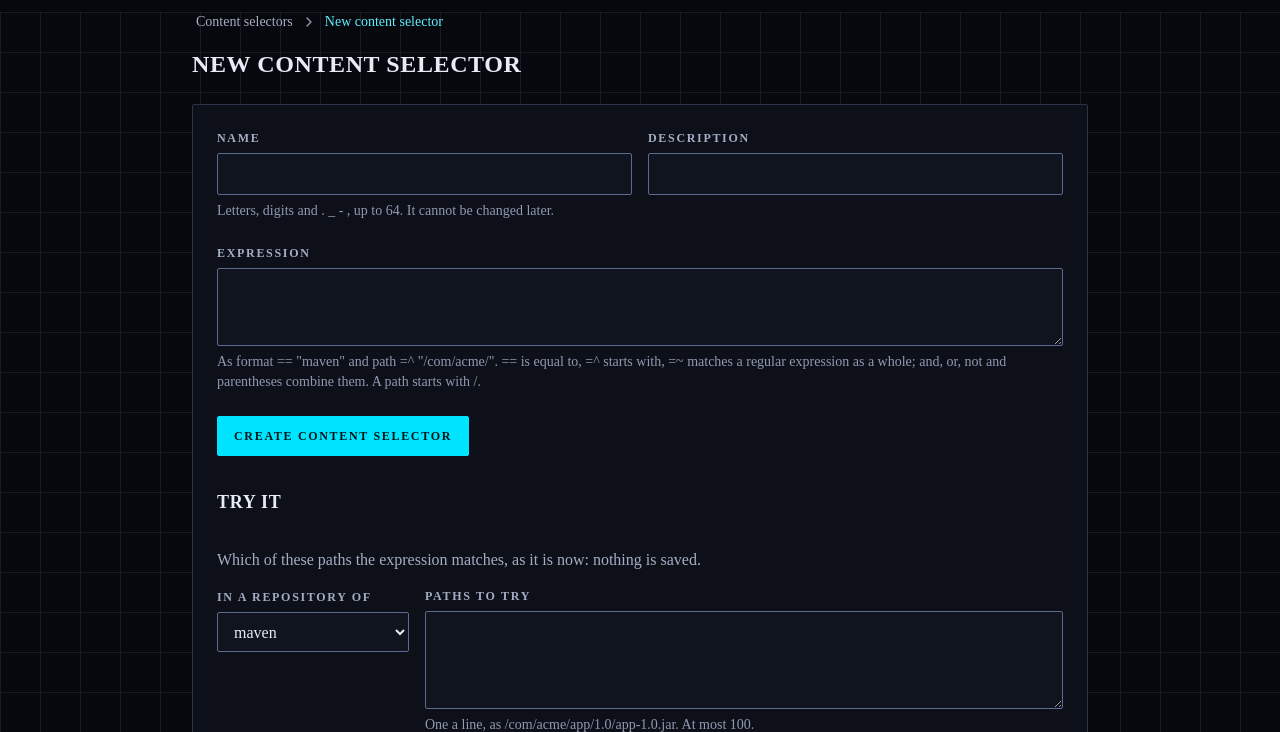
Test: the content selectors (spec 10) › are made with a name, a description and an expression
Type "acme" into the field labelled "Name" at (424, 174), box [217,153,632,195]
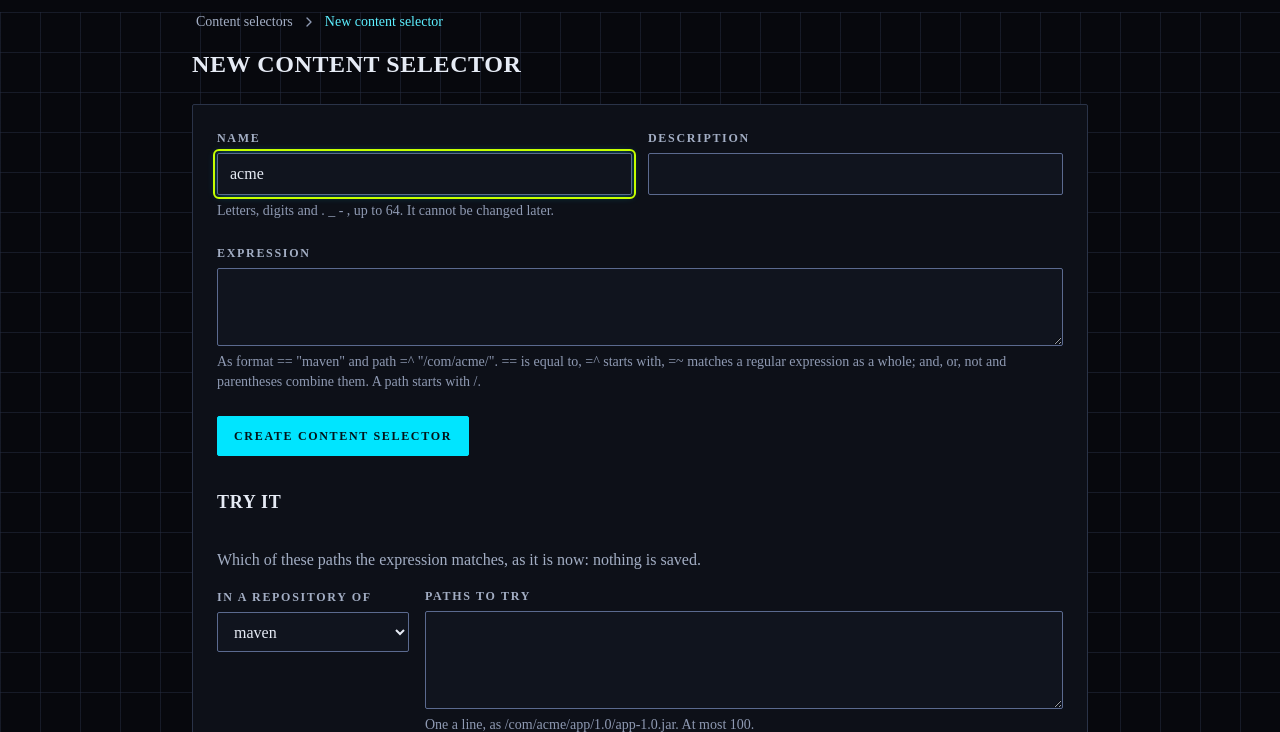
Type "Acme's own" into the field labelled "Description" at (856, 174), box [648,153,1063,195]
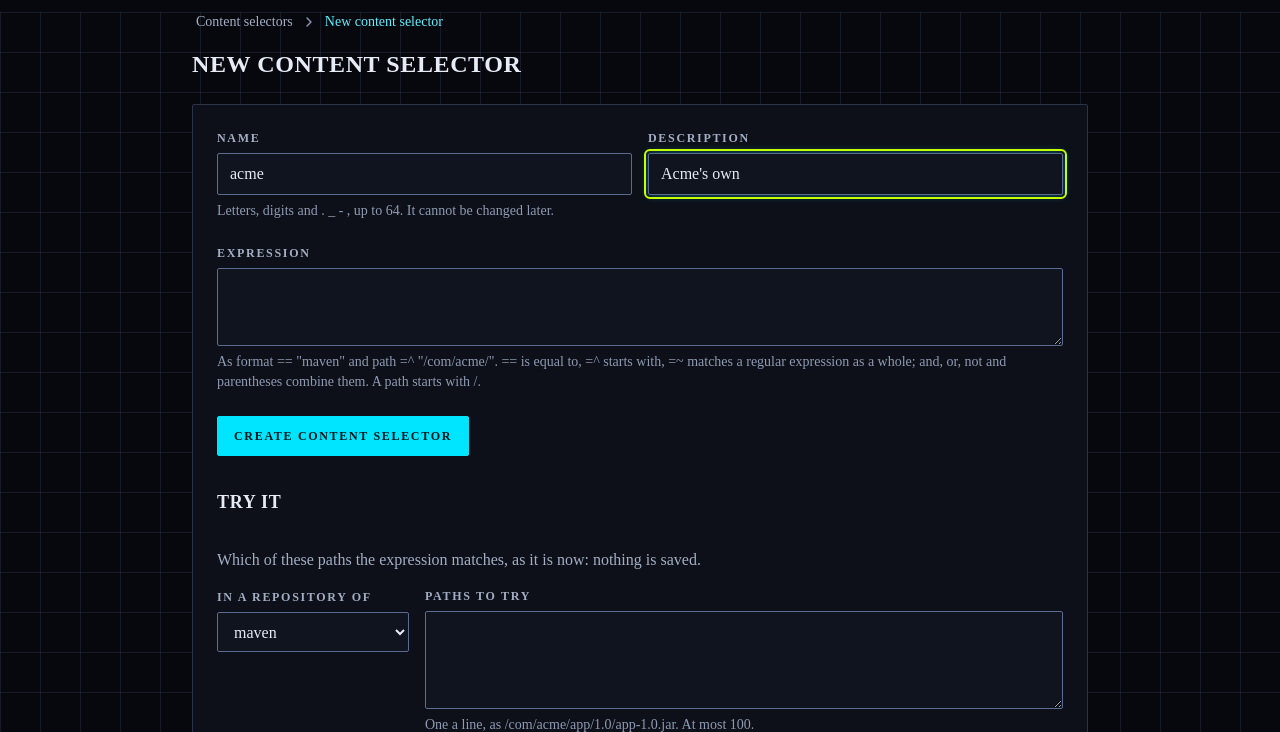
Type "path =^ \"/com/acme/\"" into the text box labelled "Expression" at (640, 307), box [217,268,1063,346]
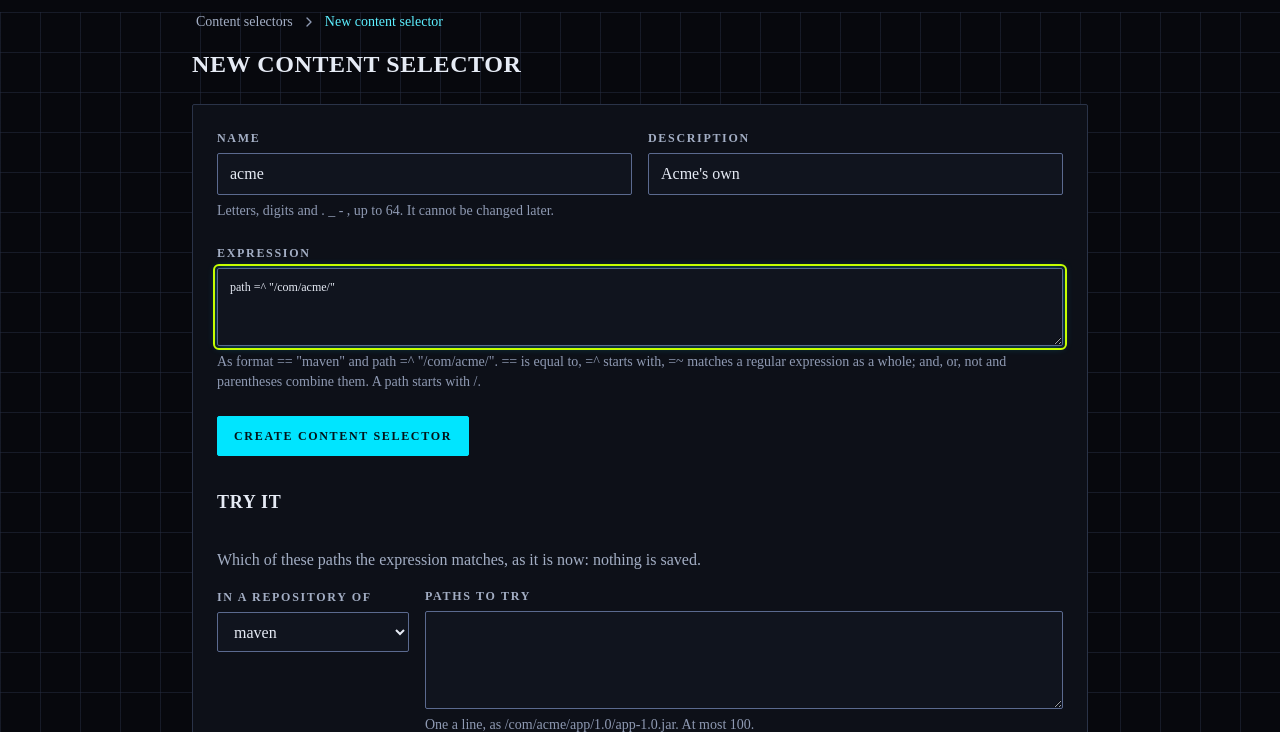
Click the button "Create content selector" at (343, 436), box [217,416,469,456]
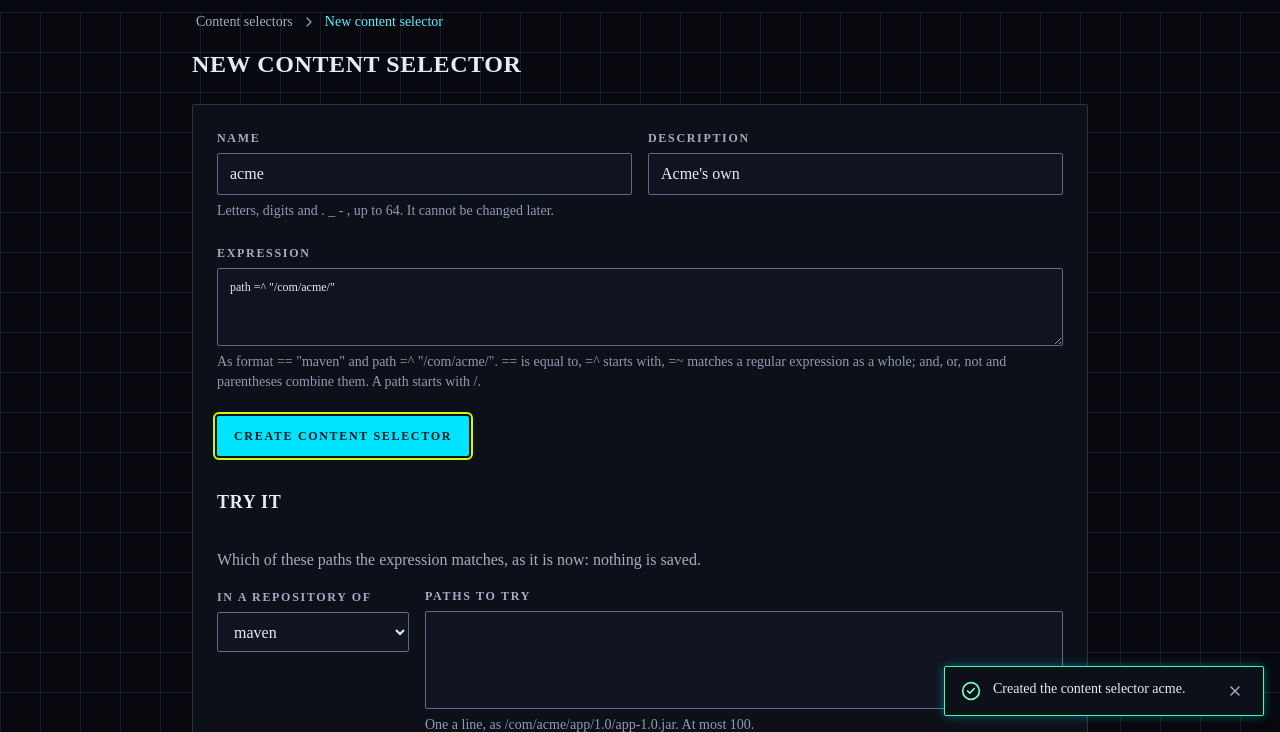
Expected: the element named "Notifications" reads "Created the content selector acme.", [993,681,1185,696]
